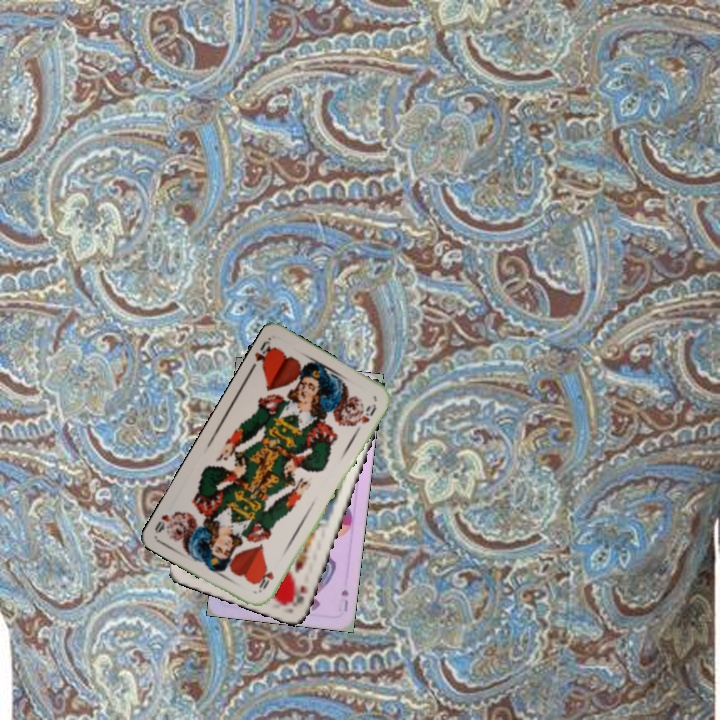HK: (288, 582, 309, 606)
HO: (251, 335, 278, 371), (254, 568, 277, 595)
SU: (336, 585, 351, 614)
